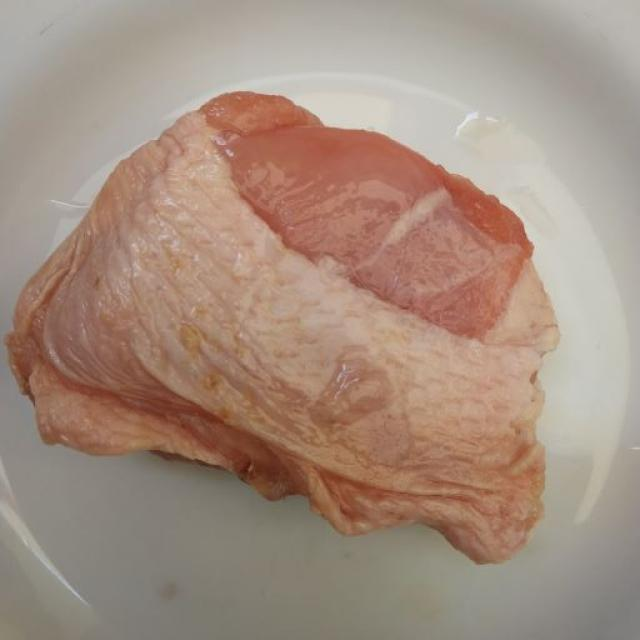chicken: (3, 88, 560, 565)
